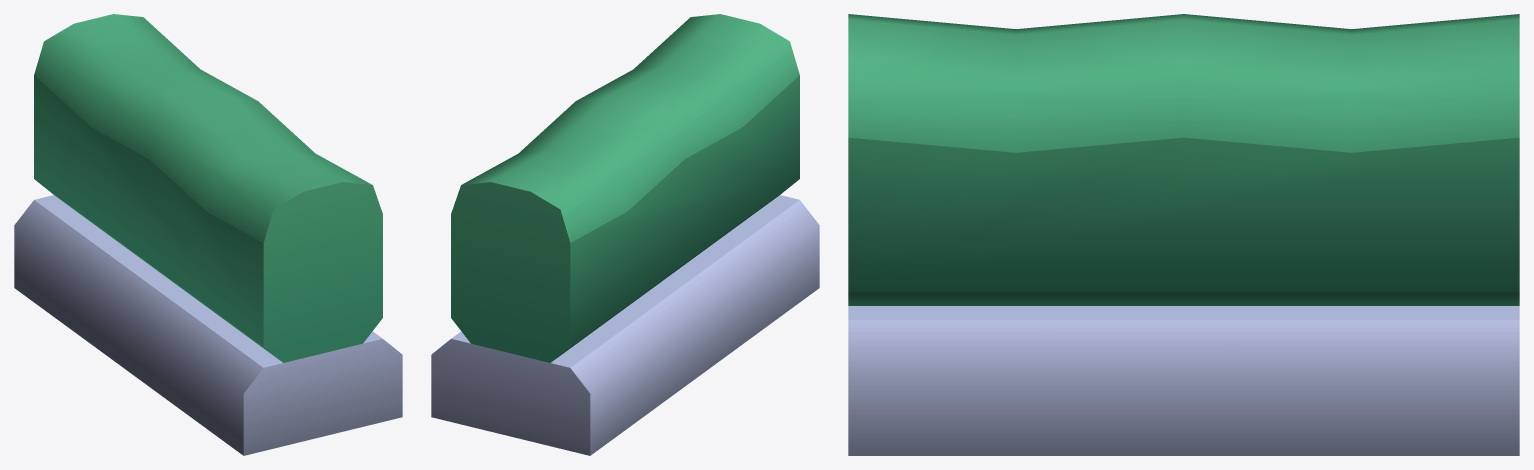
File: hedge-large.glb
3 renders of one model, left to right at view 1: azimuth 30°, elevation 25°; view 2: azimuth 150°, elevation 25°; view 3: azimuth 270°, elevation 25°, orthographic. The views are drawn at different scales.
Visible parts, largest first — view 1: hedge-large; view 2: hedge-large; view 3: hedge-large.
Boxes of the visible parts, x1,y1,x2,y2 form: hedge-large: [14, 14, 402, 455]; hedge-large: [431, 14, 819, 455]; hedge-large: [848, 14, 1519, 455].
Bounding box in the file's own units: 0.3999 × 0.6001 × 1.
1 material, 1 textured.
